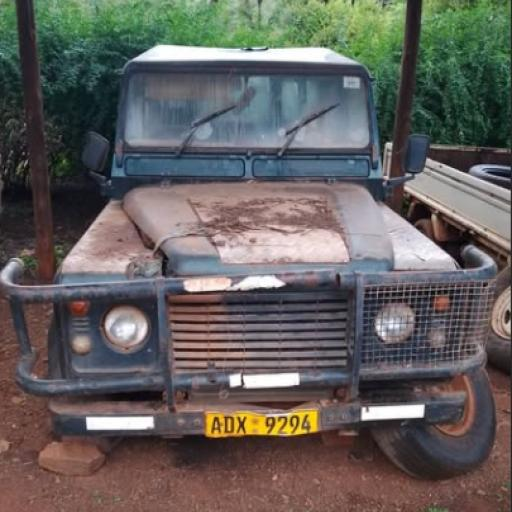number-plates: (204, 406, 327, 442)
